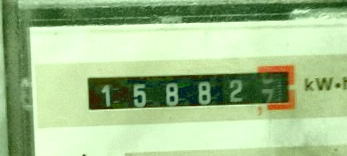1: (99, 79, 113, 108)
2: (226, 77, 244, 103)
5: (130, 80, 148, 110)
7: (259, 85, 273, 102)
8: (195, 77, 212, 106), (162, 79, 179, 107)
screen: (75, 55, 302, 122)
